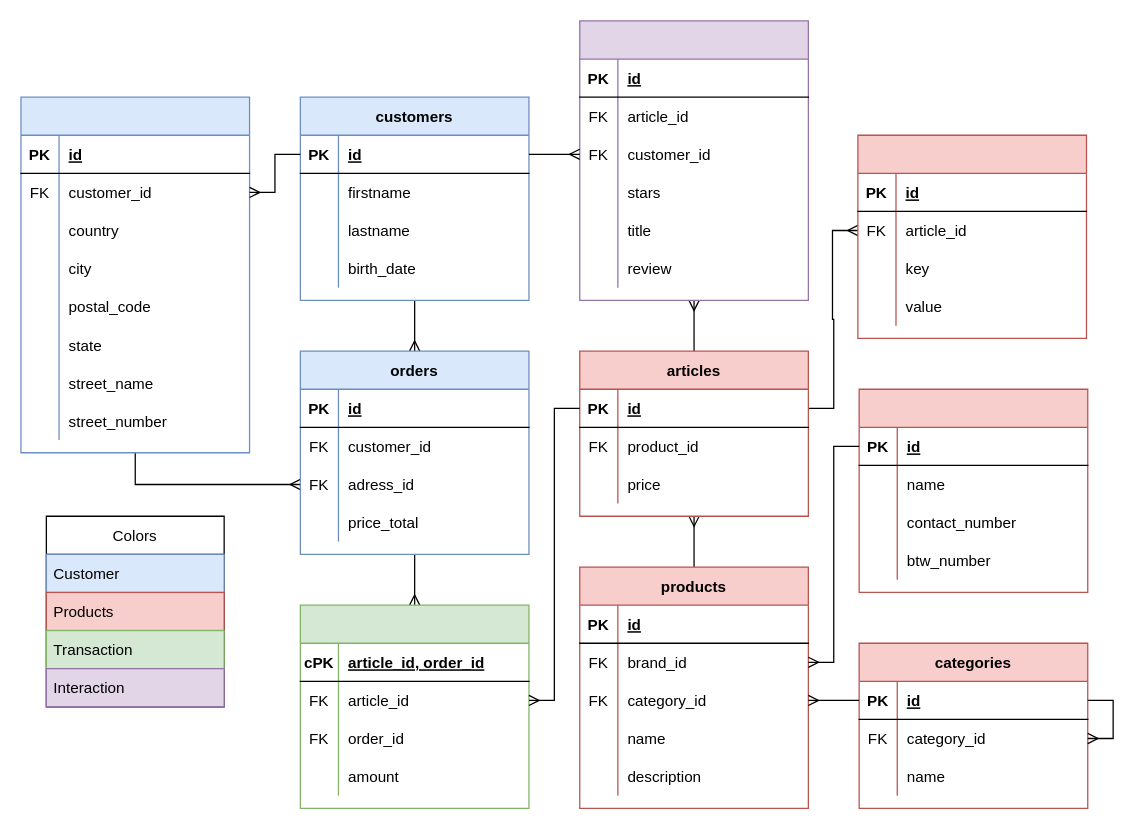
Image size: 1134x829. Some labels were removed from this diagram. The box of each missing label's shape, as (x1, y1, x2, y2) in pixels:
addresses: (20, 96, 250, 453)
article_order: (299, 604, 529, 808)
brands: (858, 388, 1088, 592)
details: (857, 134, 1086, 338)
reviews: (578, 20, 808, 300)
